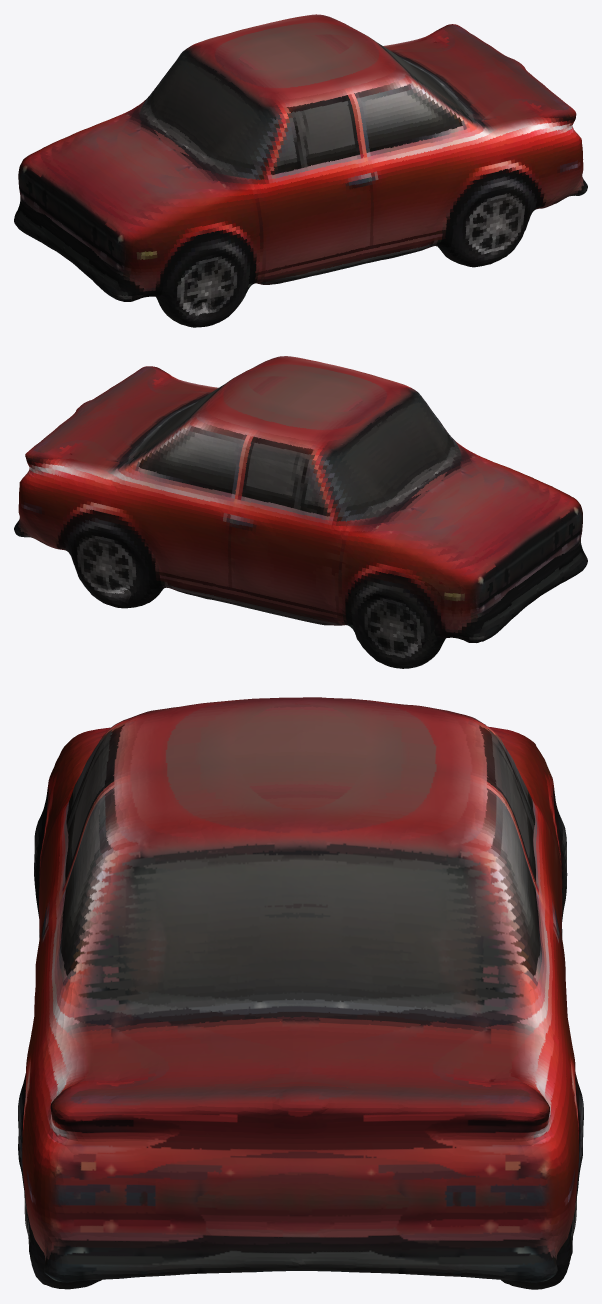
The model's file is car_v2.glb.
3 views of the same model, one above another, from view 1: azimuth 30°, elevation 25°; view 2: azimuth 150°, elevation 25°; view 3: azimuth 270°, elevation 25° (orthographic). The views are drawn at different scales.
Parts seen in each view (by area): view 1: geometry_0; view 2: geometry_0; view 3: geometry_0.
Part boxes in pixels (x1=…): geometry_0: x1=14, y1=14, x2=587, y2=327; geometry_0: x1=14, y1=356, x2=587, y2=668; geometry_0: x1=18, y1=697, x2=583, y2=1289.
Size of the model in its own units: 1 by 0.411 by 0.5248.
Materials: 1 (1 with a texture image).
